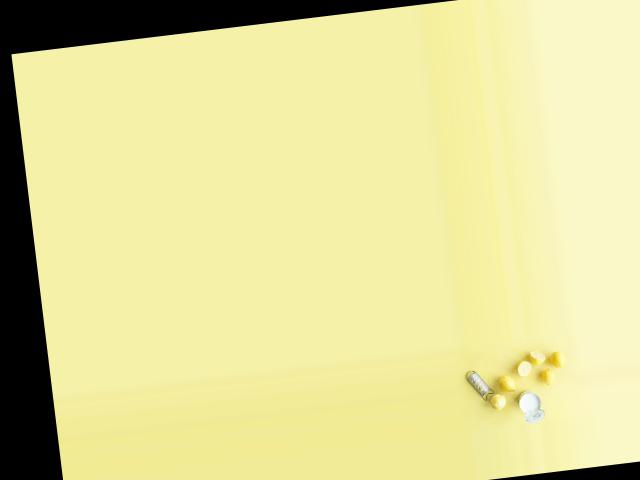lemon: (490, 389, 510, 411)
